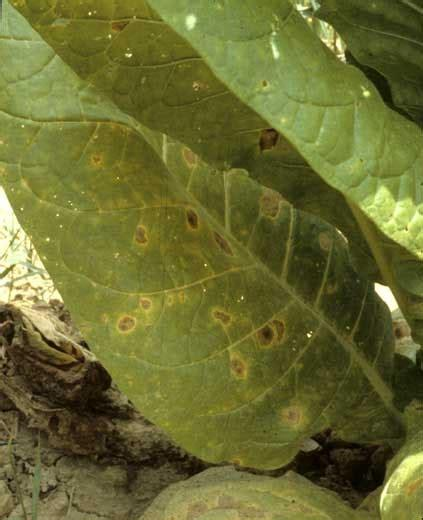black-spot: (248, 115, 286, 163)
